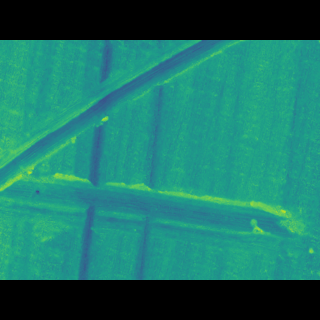Loch: (0, 69, 250, 185), (0, 169, 312, 235)
